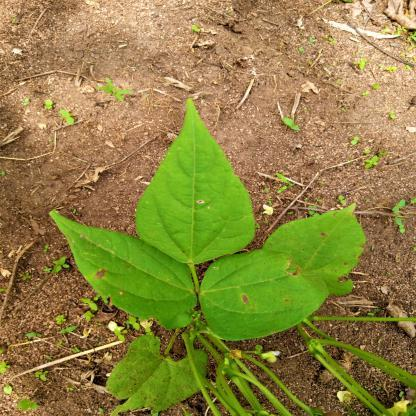Beans_Angular_LeafSpot: (297, 203, 382, 266), (218, 258, 304, 320), (84, 239, 148, 288)
